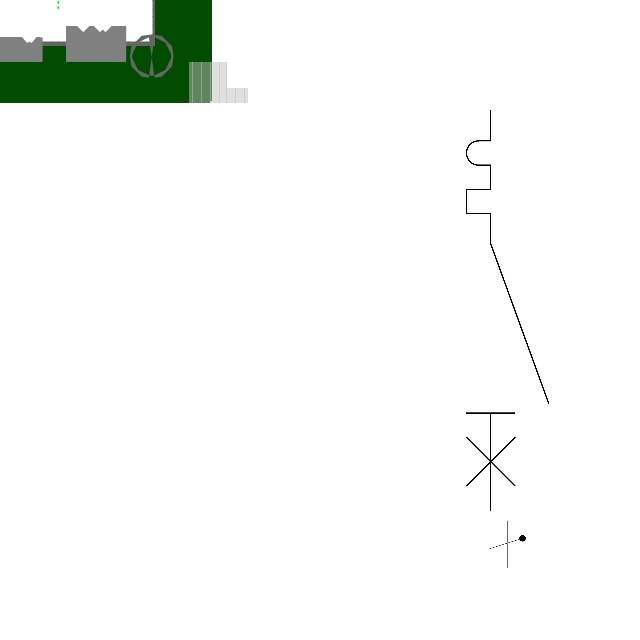interruptor_termomagnetico: (456, 100, 559, 520)
